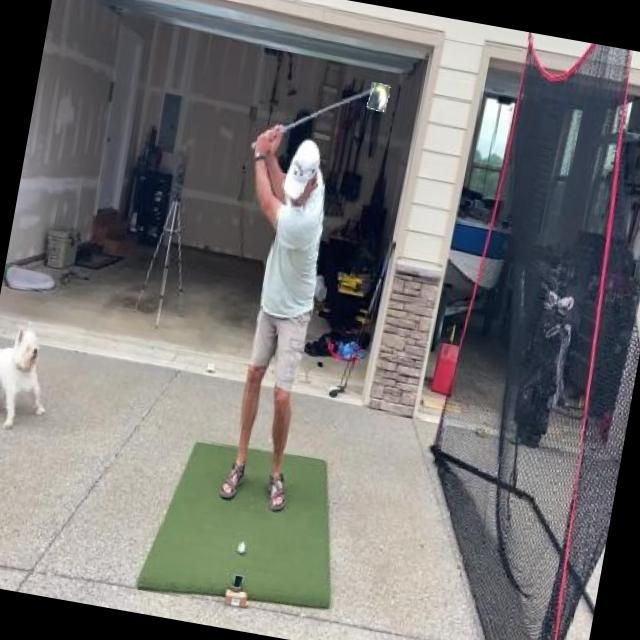club head: (366, 81, 390, 112)
